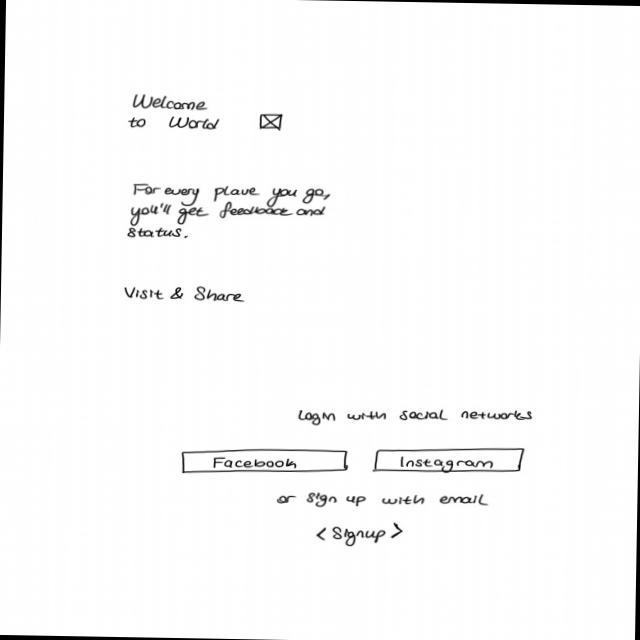button: (371, 443, 527, 476), (180, 446, 349, 476)
image: (258, 112, 284, 130)
label: (125, 181, 331, 244), (296, 404, 534, 430), (274, 488, 490, 509), (126, 91, 221, 131), (122, 283, 250, 305)
link: (314, 519, 404, 548)
